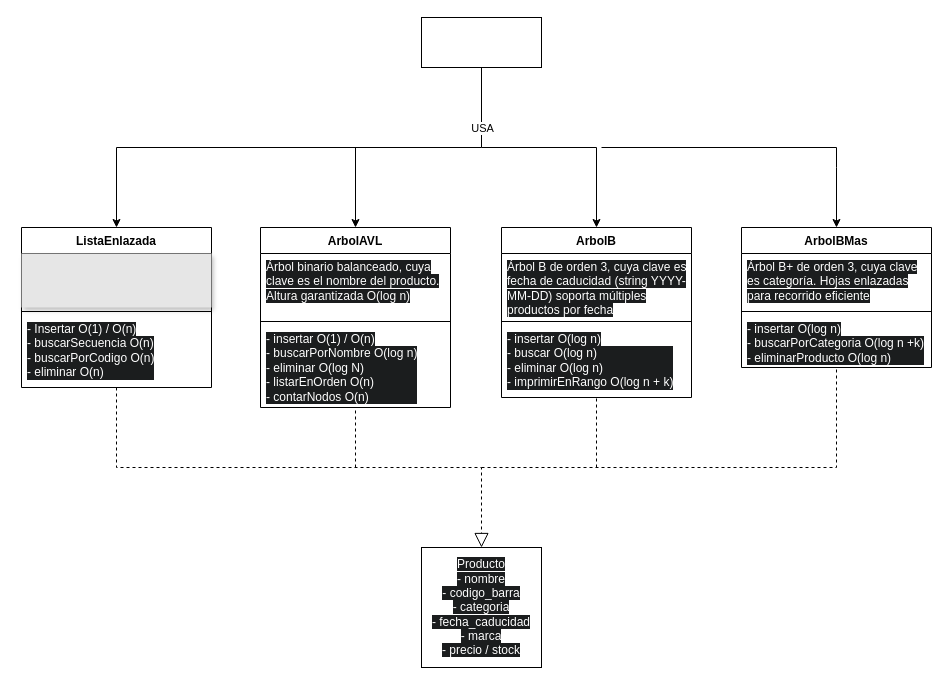
This 949x685 diagram has some shape labels left out. Here are the shapes that lost their labels. From the top down, the centre of each, then its label:
At point (481, 42): "GestionInventario".
At point (117, 281): "Secuencia de nodos con puntero a Producto. Puede ser ordenada o no por nombre".
